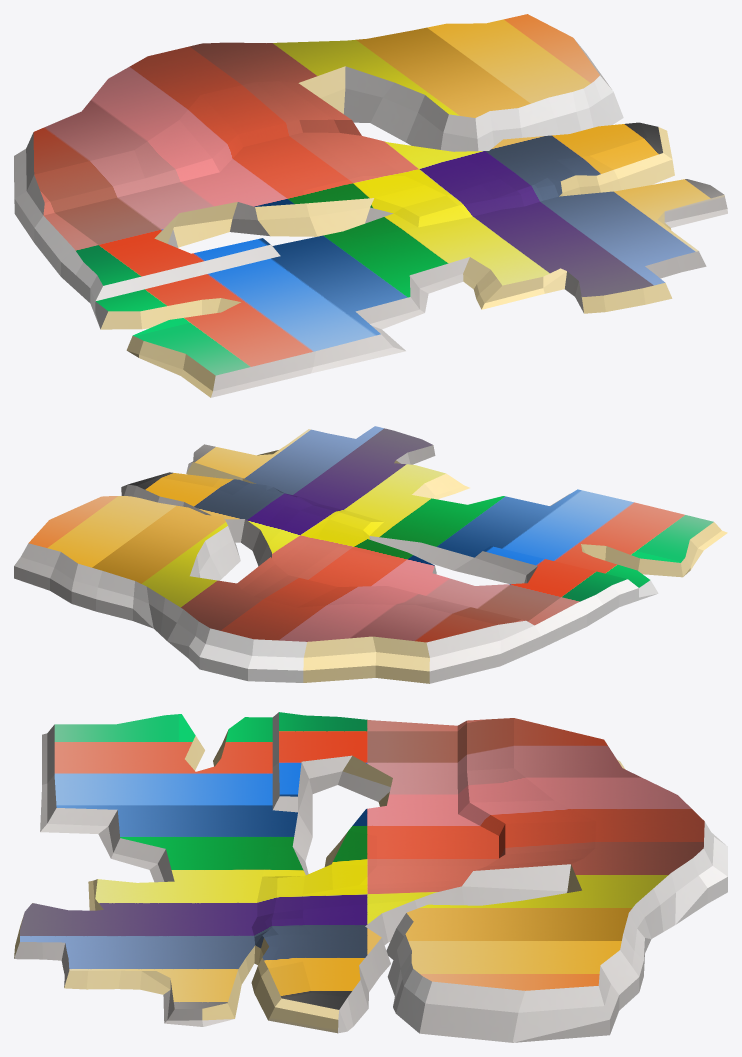
Rendered from hell_idle_base 1.fbx.
The picture shows the model from 3 angles, top to bottom: view 1: azimuth 30°, elevation 25°; view 2: azimuth 150°, elevation 25°; view 3: azimuth 270°, elevation 25°; orthographic projection. The views are drawn at different scales.
Parts seen in each view (by area): view 1: Plane.002; view 2: Plane.002; view 3: Plane.002.
Part boxes in pixels (x1,y1,x2,y2): Plane.002: [14, 14, 727, 397]; Plane.002: [14, 426, 727, 683]; Plane.002: [14, 712, 727, 1042].
Size of the model in its own units: 31672 by 30281 by 2405.
